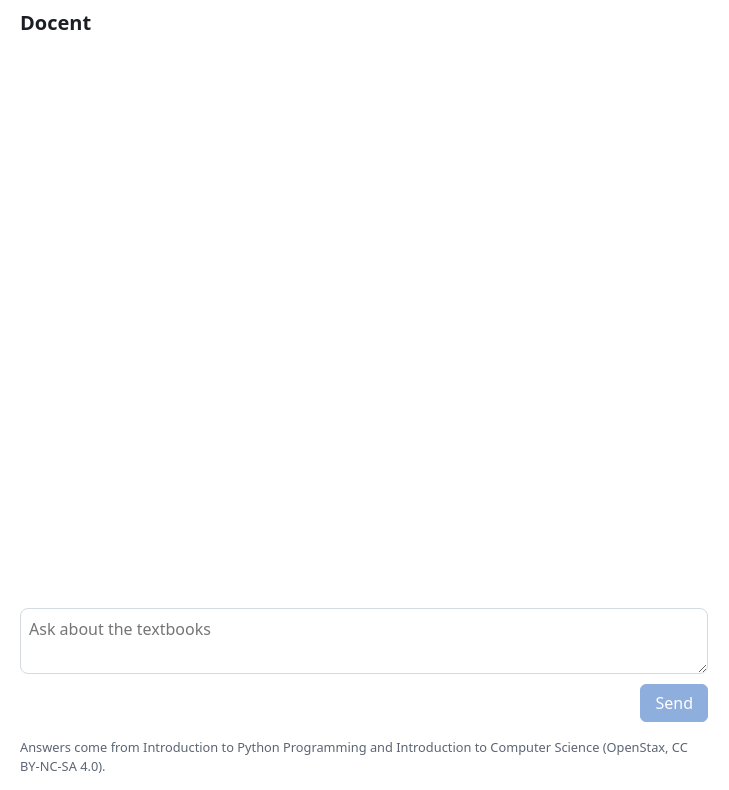
Test case: states › shows loading while the request is pending
This screenshot has width=729, height=790.
Type "How does precedence work?" into the text box named "Question" at (364, 641), box [20, 608, 708, 674]
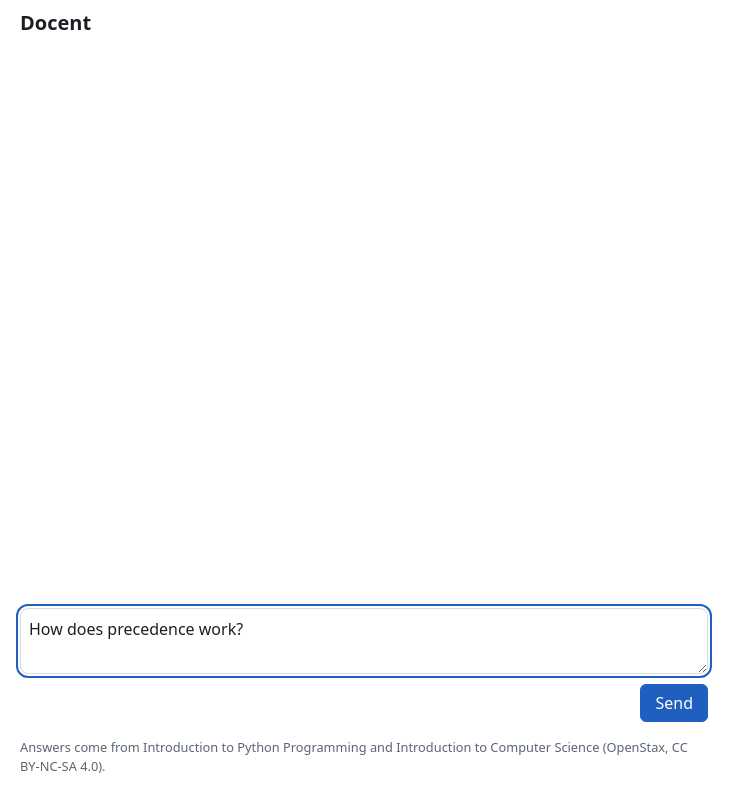
Press Enter
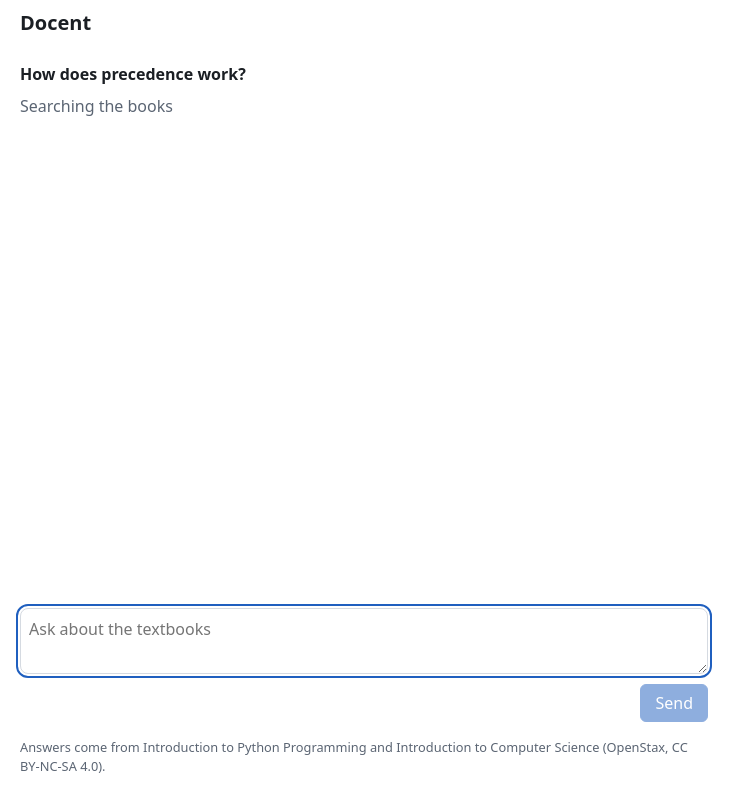
Result: the text "Searching the books" is shown at [20, 95, 173, 117]
